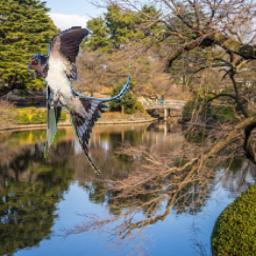Swallow: (28, 27, 130, 176)
